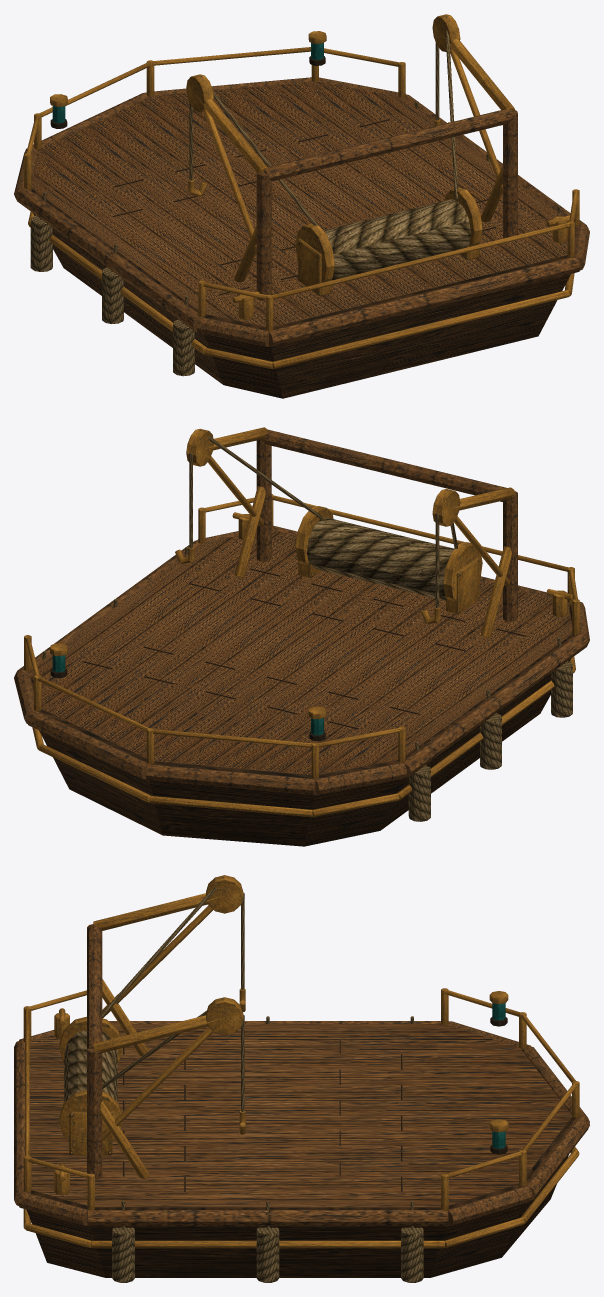
Rendered from turret-raft.glb.
3 views of the same model, one above another, from view 1: azimuth 30°, elevation 25°; view 2: azimuth 150°, elevation 25°; view 3: azimuth 270°, elevation 25° (orthographic).
Visible parts, largest first — view 1: turret-raft; view 2: turret-raft; view 3: turret-raft.
Boxes of the visible parts, <box> form: turret-raft: <box>14,14,589,398</box>; turret-raft: <box>14,427,589,846</box>; turret-raft: <box>14,875,589,1282</box>.
Bounding box in the file's own units: 6.44 × 4 × 7.98.
2 materials, 2 textured.
